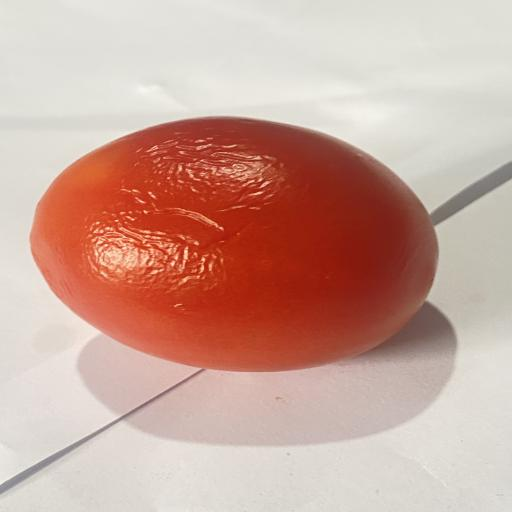spoiled: (30, 117, 438, 371)
